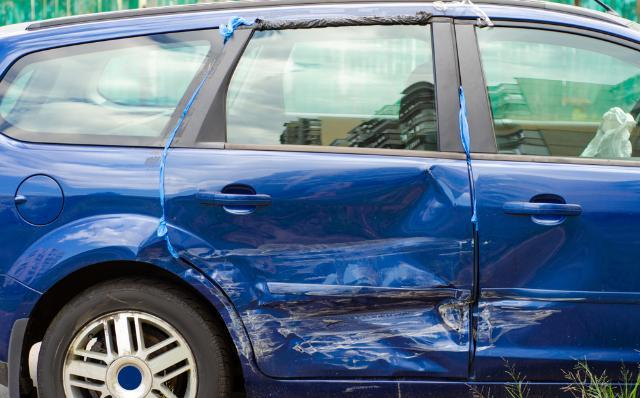dent: (166, 167, 472, 377), (477, 227, 591, 355), (136, 235, 196, 280)
